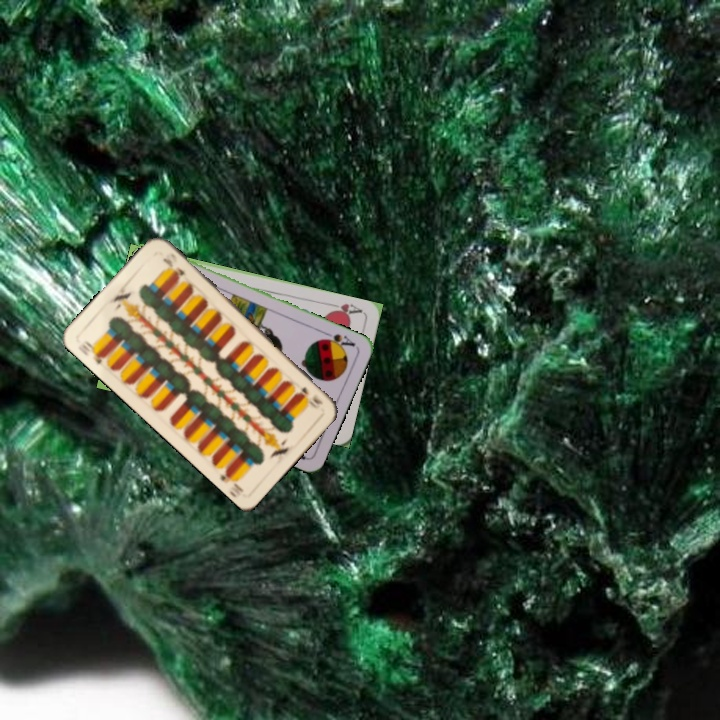E10: (74, 336, 108, 367), (297, 383, 326, 407)
HA: (325, 299, 365, 319)
SA: (317, 328, 358, 352)
